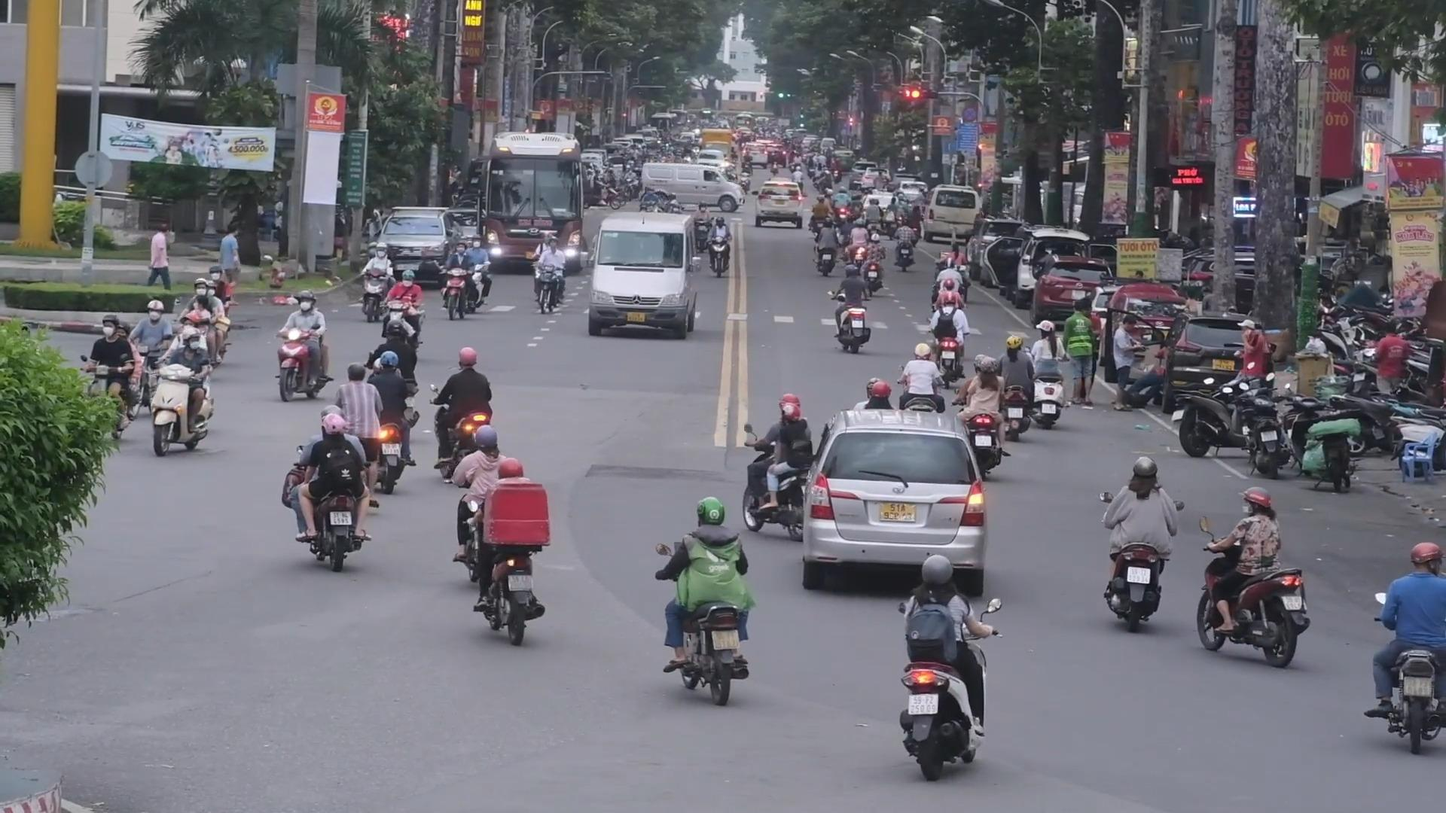driver: (895, 555, 1003, 783), (655, 497, 757, 707), (1197, 486, 1311, 669), (1363, 541, 1446, 755), (461, 457, 551, 645), (1098, 456, 1185, 633), (282, 404, 372, 572), (742, 393, 813, 542), (429, 347, 492, 489), (149, 327, 214, 457), (79, 314, 142, 441), (949, 353, 1011, 482), (367, 351, 417, 496), (275, 289, 334, 402), (1024, 319, 1070, 430), (926, 291, 970, 390), (996, 335, 1035, 441), (827, 264, 871, 353), (380, 269, 426, 351), (897, 342, 946, 414), (358, 241, 396, 322), (439, 239, 476, 320), (530, 236, 566, 315), (705, 216, 733, 278)
helmet: (1411, 541, 1444, 578), (921, 555, 953, 592), (1239, 486, 1271, 518), (696, 497, 725, 527), (321, 413, 346, 441), (1134, 456, 1157, 482), (476, 425, 497, 453), (498, 458, 524, 479), (780, 402, 801, 427), (871, 380, 891, 404), (297, 290, 317, 313), (458, 347, 477, 371), (182, 327, 201, 351), (147, 299, 165, 323), (102, 314, 119, 339), (1035, 320, 1056, 340), (380, 351, 399, 372), (980, 357, 998, 376), (914, 342, 931, 360), (117, 320, 131, 340), (195, 278, 209, 297), (1006, 335, 1023, 350), (843, 264, 859, 279), (402, 270, 416, 287), (943, 291, 956, 307), (376, 242, 388, 258), (368, 241, 376, 258)
no-helmet: (348, 363, 366, 382)
